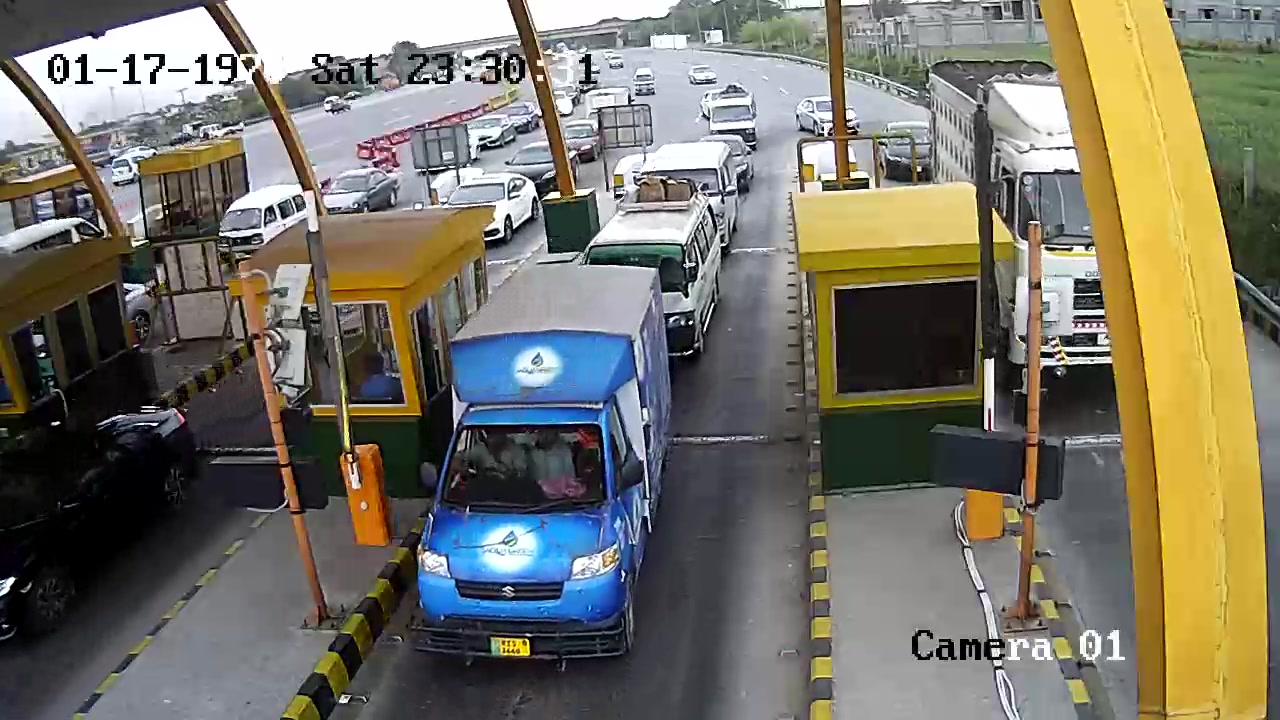F2: (410, 247, 695, 663)
